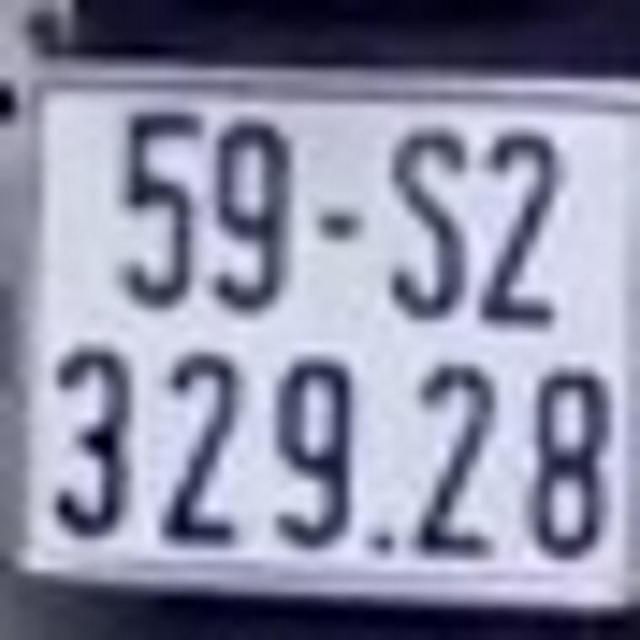2: (487, 121, 562, 337), (414, 359, 494, 555), (165, 353, 232, 546)
3: (53, 339, 133, 543)
5: (130, 100, 196, 303)
8: (535, 373, 609, 562)
9: (279, 343, 353, 547), (216, 113, 286, 313)
S: (392, 119, 466, 330)
